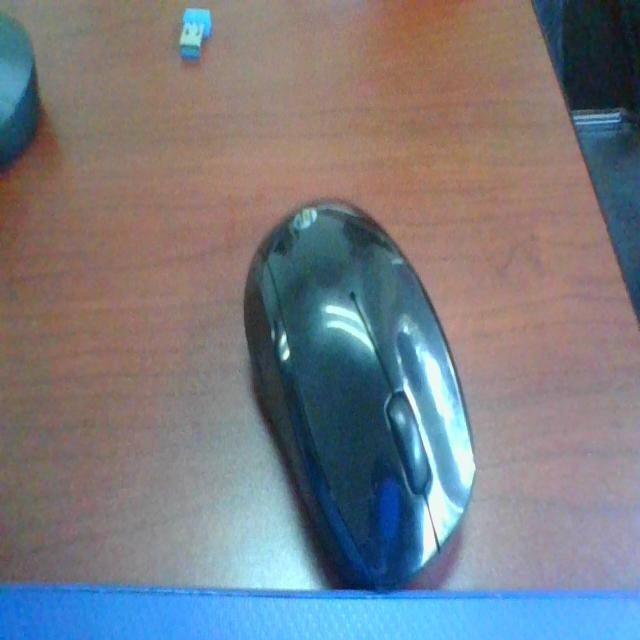mouse: (242, 178, 488, 580)
